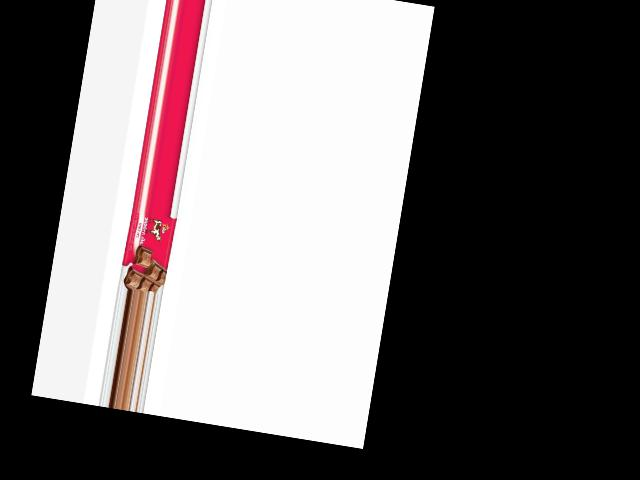chocolate: (119, 209, 176, 293)
